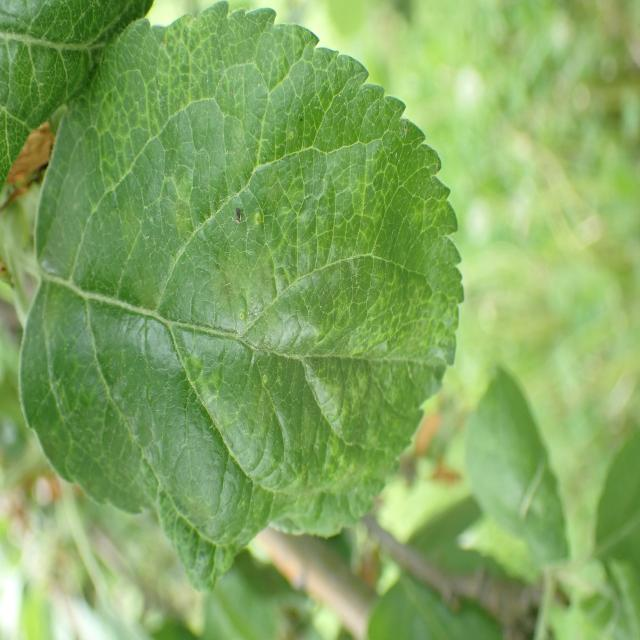scab: (152, 142, 447, 520)
